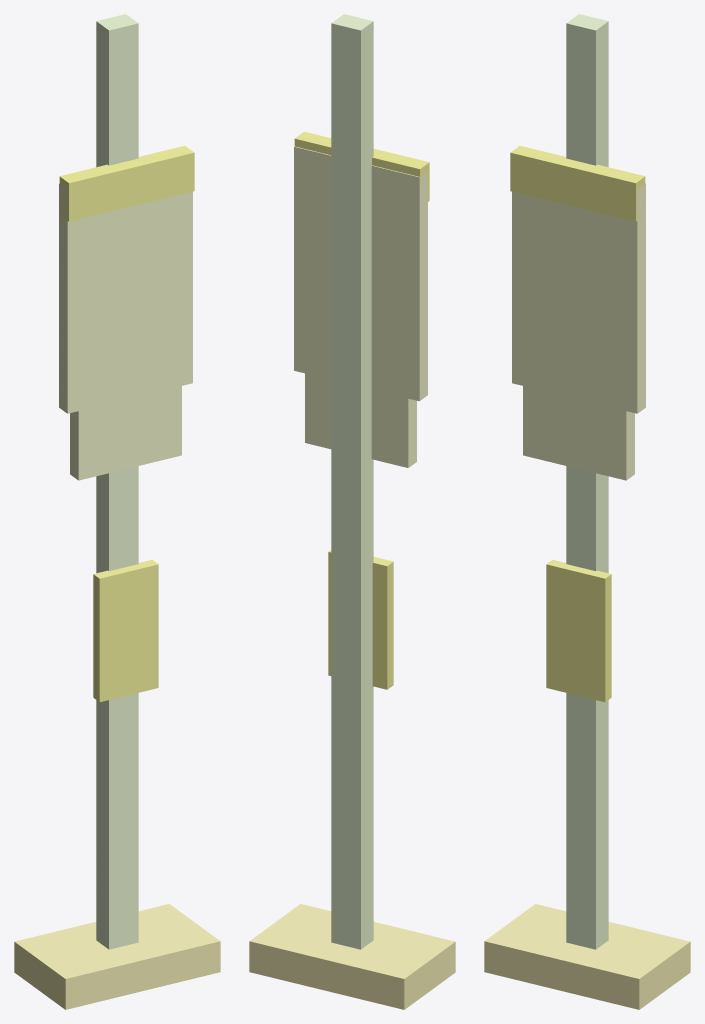
The model's file is furniture_loading_zone_sign_post.glb.
3 views of the same model, side by side, from view 1: azimuth 30°, elevation 25°; view 2: azimuth 150°, elevation 25°; view 3: azimuth 330°, elevation 25° (orthographic).
Parts seen in each view (by area): view 1: regulatory_panel, post, base, lower_notice, time_plate, header_band; view 2: post, regulatory_panel, base, time_plate, lower_notice, header_band; view 3: regulatory_panel, post, base, lower_notice, time_plate, header_band.
Boxes of the visible parts, x1,y1,x2,y2 form: regulatory_panel: (59, 183, 192, 413); post: (96, 14, 138, 949); base: (14, 904, 220, 1009); lower_notice: (93, 559, 158, 702); time_plate: (70, 386, 181, 480); header_band: (59, 145, 194, 221); post: (331, 14, 373, 949); regulatory_panel: (294, 146, 427, 401); base: (249, 904, 455, 1009); time_plate: (305, 373, 416, 467); lower_notice: (328, 550, 393, 689); header_band: (294, 131, 429, 201); regulatory_panel: (512, 183, 645, 413); post: (566, 14, 608, 949); base: (484, 904, 690, 1009); lower_notice: (546, 559, 611, 702); time_plate: (523, 386, 634, 480); header_band: (510, 145, 645, 221).
Bounding box in the file's own units: 0.42 × 2.46 × 0.24.
